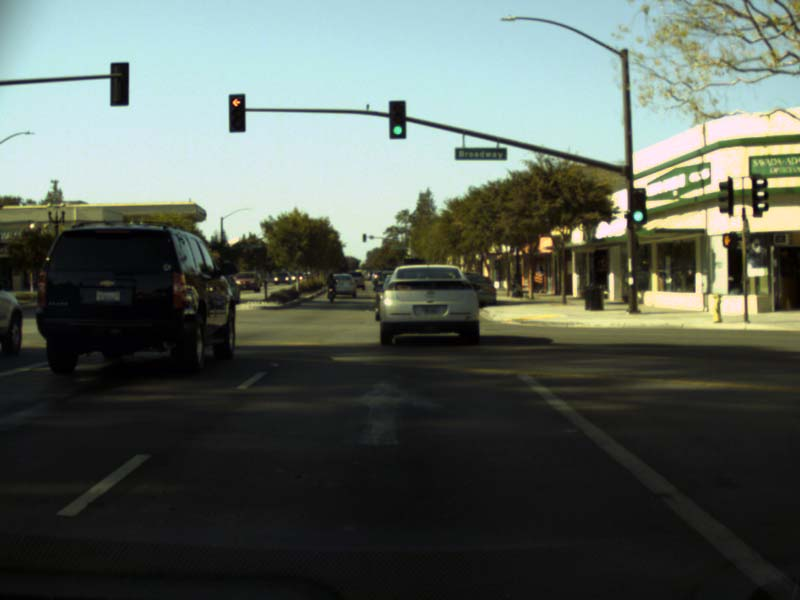Green: (389, 100, 406, 137), (632, 189, 643, 223)
Red: (228, 92, 244, 131)
